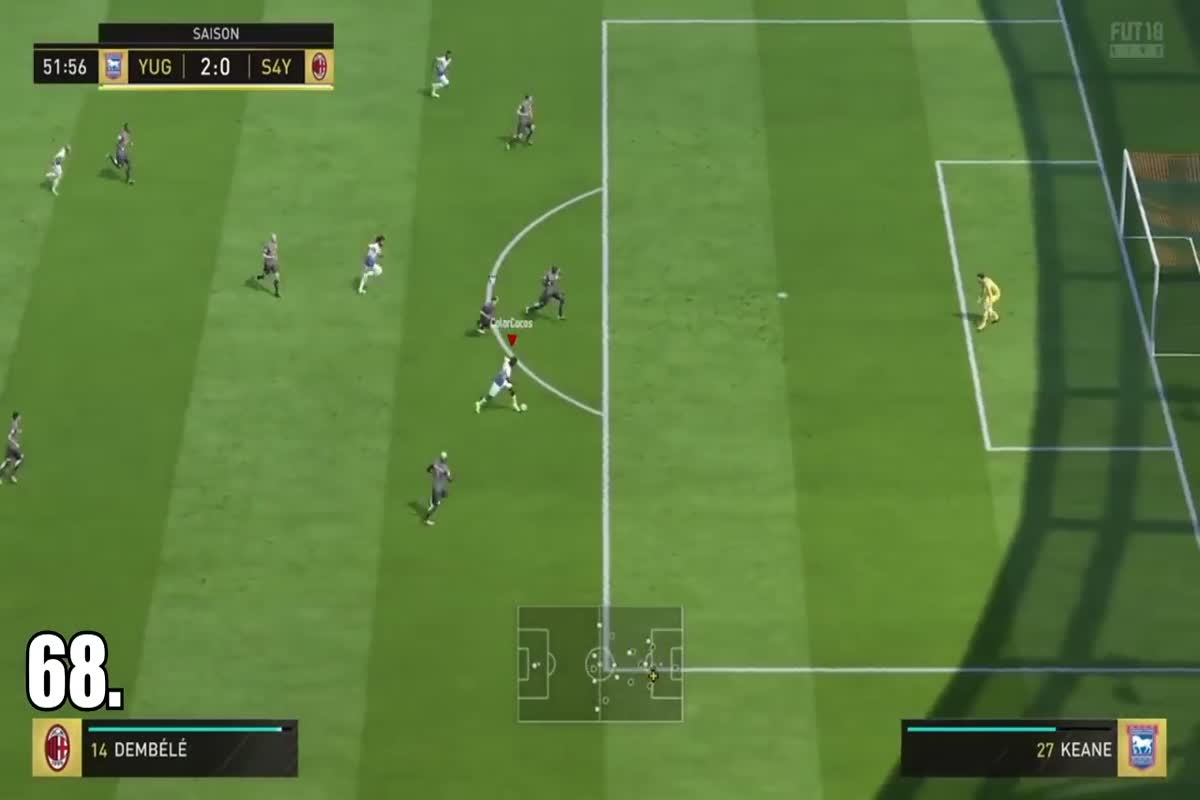ball: (518, 395, 534, 414)
